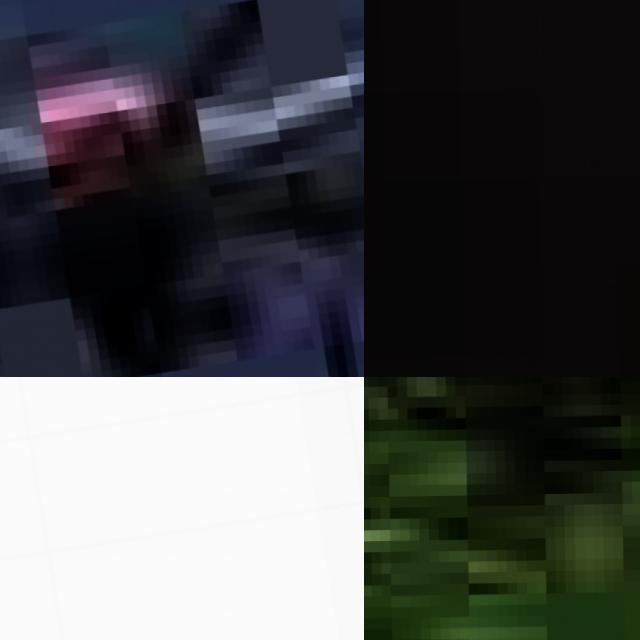0: (0, 0, 364, 377)
drone: (0, 377, 364, 640)
